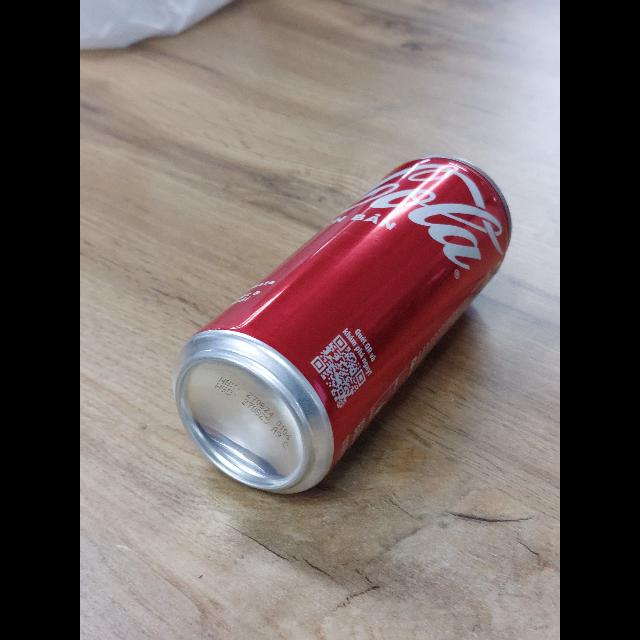coca_cola: (172, 156, 513, 496)
